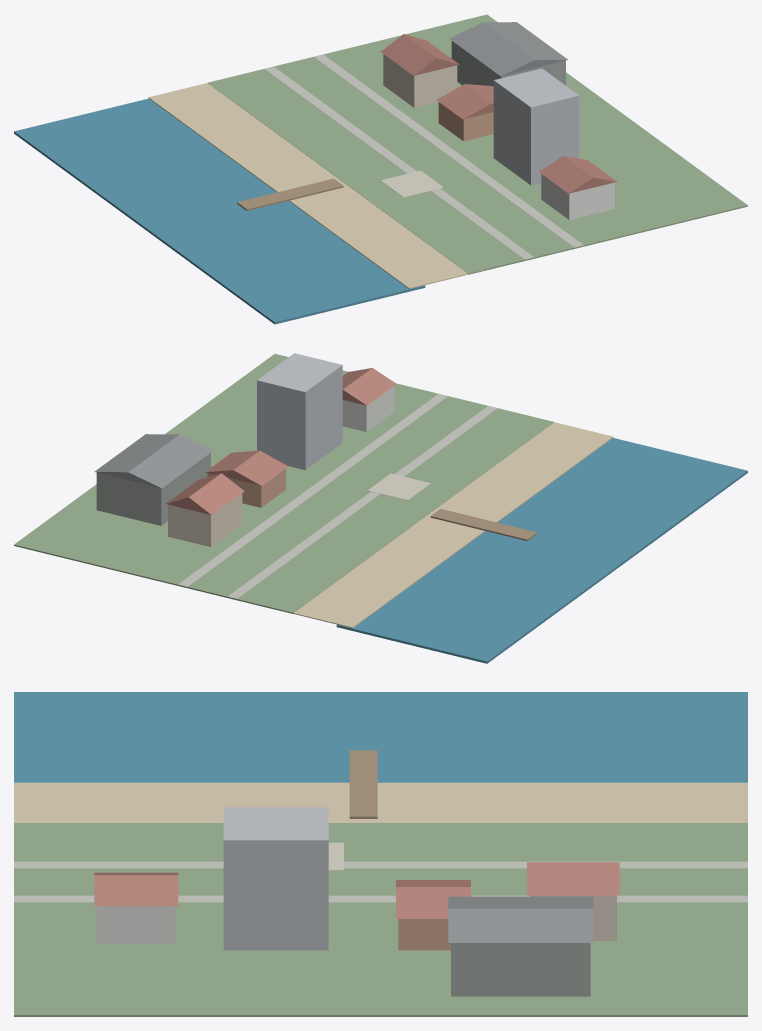
Rendered from vera_costa_block.glb.
The picture shows the model from 3 angles, top to bottom: view 1: azimuth 30°, elevation 25°; view 2: azimuth 150°, elevation 25°; view 3: azimuth 270°, elevation 25°; orthographic projection. The views are drawn at different scales.
Visible parts, largest first — view 1: VeraCostaGround, VeraCostaWater, VeraCostaBeach, VeraCostaApartments, VeraCostaWarehouseRoof, VeraCostaSidewalkEast, VeraCostaSidewalkWest, VeraCostaHarborOffice, VeraCostaClinic, VeraCostaHarborOfficeRoof, VeraCostaClinicRoof, VeraCostaWarehouse (+4 smaller); view 2: VeraCostaGround, VeraCostaWater, VeraCostaBeach, VeraCostaApartments, VeraCostaWarehouseRoof, VeraCostaWarehouse, VeraCostaSidewalkEast, VeraCostaSidewalkWest, VeraCostaHarborOffice, VeraCostaHarborOfficeRoof, VeraCostaMarketRoof, VeraCostaClinicRoof (+4 smaller); view 3: VeraCostaGround, VeraCostaWater, VeraCostaBeach, VeraCostaApartments, VeraCostaWarehouse, VeraCostaWarehouseRoof, VeraCostaSidewalkWest, VeraCostaHarborOfficeRoof, VeraCostaClinic, VeraCostaClinicRoof, VeraCostaSidewalkEast, VeraCostaMarketRoof (+3 smaller).
Boxes of the visible parts, x1=… form: VeraCostaGround: x1=208, y1=14, x2=747, y2=274; VeraCostaWater: x1=14, y1=98, x2=425, y2=324; VeraCostaBeach: x1=148, y1=83, x2=484, y2=288; VeraCostaApartments: x1=493, y1=68, x2=579, y2=185; VeraCostaWarehouseRoof: x1=449, y1=22, x2=567, y2=76; VeraCostaSidewalkEast: x1=314, y1=54, x2=583, y2=247; VeraCostaSidewalkWest: x1=264, y1=66, x2=534, y2=259; VeraCostaHarborOffice: x1=383, y1=54, x2=457, y2=107; VeraCostaClinic: x1=541, y1=174, x2=614, y2=219; VeraCostaHarborOfficeRoof: x1=381, y1=34, x2=459, y2=75; VeraCostaClinicRoof: x1=539, y1=156, x2=617, y2=193; VeraCostaWarehouse: x1=451, y1=41, x2=565, y2=85; VeraCostaGround: x1=14, y1=354, x2=553, y2=613; VeraCostaWater: x1=336, y1=438, x2=747, y2=663; VeraCostaBeach: x1=277, y1=422, x2=613, y2=628; VeraCostaApartments: x1=257, y1=353, x2=342, y2=470; VeraCostaWarehouseRoof: x1=94, y1=434, x2=213, y2=488; VeraCostaWarehouse: x1=96, y1=453, x2=210, y2=525; VeraCostaSidewalkEast: x1=178, y1=393, x2=447, y2=586; VeraCostaSidewalkWest: x1=228, y1=405, x2=497, y2=598; VeraCostaHarborOffice: x1=168, y1=493, x2=242, y2=546; VeraCostaHarborOfficeRoof: x1=166, y1=473, x2=244, y2=515; VeraCostaMarketRoof: x1=205, y1=450, x2=288, y2=485; VeraCostaClinicRoof: x1=342, y1=368, x2=396, y2=405; VeraCostaGround: x1=14, y1=823, x2=747, y2=1016; VeraCostaWater: x1=14, y1=692, x2=747, y2=782; VeraCostaBeach: x1=14, y1=782, x2=747, y2=822; VeraCostaApartments: x1=223, y1=807, x2=328, y2=950; VeraCostaWarehouse: x1=451, y1=943, x2=590, y2=996; VeraCostaWarehouseRoof: x1=448, y1=896, x2=593, y2=942; VeraCostaSidewalkWest: x1=14, y1=861, x2=747, y2=868; VeraCostaHarborOfficeRoof: x1=527, y1=862, x2=619, y2=895; VeraCostaClinic: x1=97, y1=906, x2=175, y2=943; VeraCostaClinicRoof: x1=94, y1=872, x2=178, y2=906; VeraCostaSidewalkEast: x1=14, y1=895, x2=747, y2=902; VeraCostaMarketRoof: x1=396, y1=880, x2=470, y2=918.
Size of the model in its own units: 88 by 14.55 by 84.
